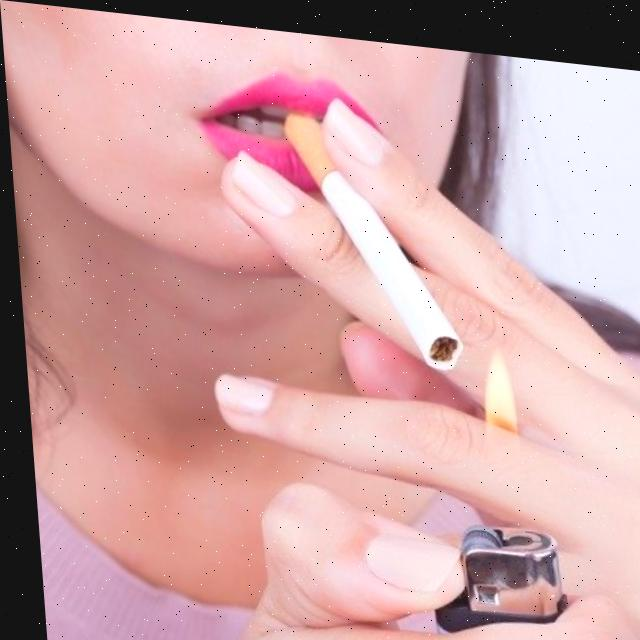cigarette: (281, 106, 461, 363)
